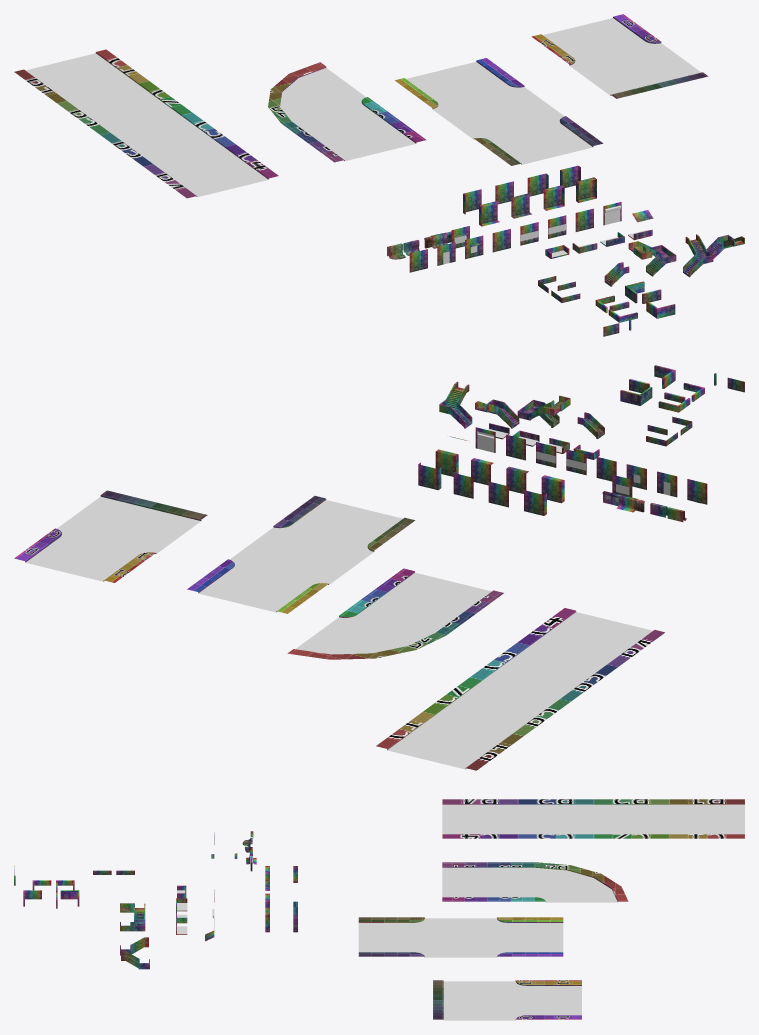
Rendered from Modular_building_set_t2.glb.
3 views of the same model, one above another, from view 1: azimuth 30°, elevation 25°; view 2: azimuth 150°, elevation 25°; view 3: azimuth 270°, elevation 25° (orthographic). The views are drawn at different scales.
Parts seen in each view (by area): view 1: road, road_4, road_R, road_3, stairs_v3, stair_v2_L; view 2: road, road_4, road_R, road_3, stairs_v3, stair_v2_R; view 3: road, road_4, road_R, road_3, stairs_v3.
Part boxes in pixels (x1,y1,x2,y2): road: (14, 49, 278, 198); road_4: (395, 58, 603, 165); road_R: (268, 62, 425, 162); road_3: (531, 14, 708, 98); stairs_v3: (628, 241, 676, 276); stair_v2_L: (683, 234, 713, 277); road: (376, 608, 664, 770); road_4: (187, 495, 415, 613); road_R: (287, 568, 503, 659); road_3: (14, 490, 207, 582); stairs_v3: (517, 395, 570, 427); stair_v2_R: (439, 381, 472, 428); road: (442, 799, 744, 838); road_4: (358, 917, 563, 957); road_R: (442, 862, 628, 902); road_3: (433, 980, 581, 1020); stairs_v3: (120, 903, 145, 931).
Size of what is drawn, in the model's own units: 112 by 8.2 by 157.
54 materials, 40 textured.
